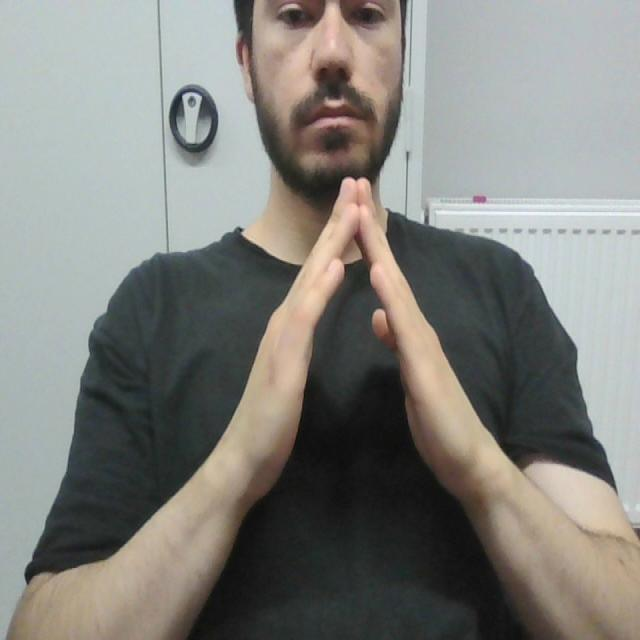Ev: (227, 173, 488, 514)
